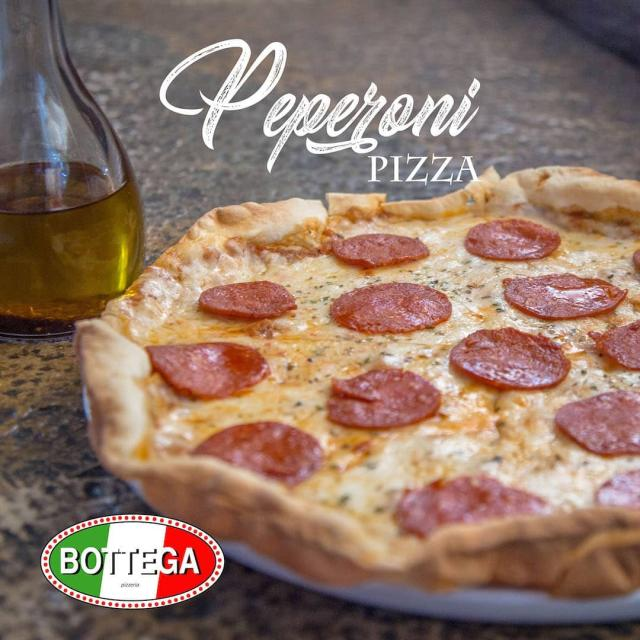pepperoni: (394, 479, 571, 540), (194, 423, 324, 488), (450, 329, 569, 393), (326, 367, 441, 431), (146, 343, 268, 400), (329, 284, 452, 337), (502, 273, 628, 324), (556, 392, 640, 460), (464, 217, 561, 265), (328, 229, 430, 271), (199, 281, 297, 324), (600, 321, 640, 373)
pizza: (72, 166, 640, 625)
